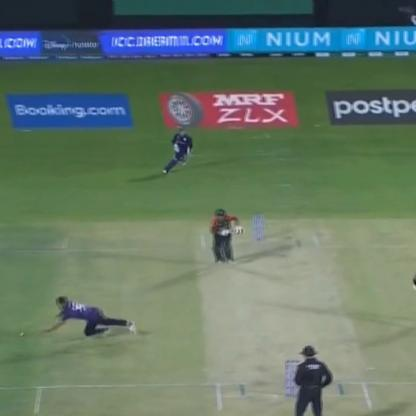ball: (18, 329, 25, 339)
pitch: (185, 229, 379, 415)
